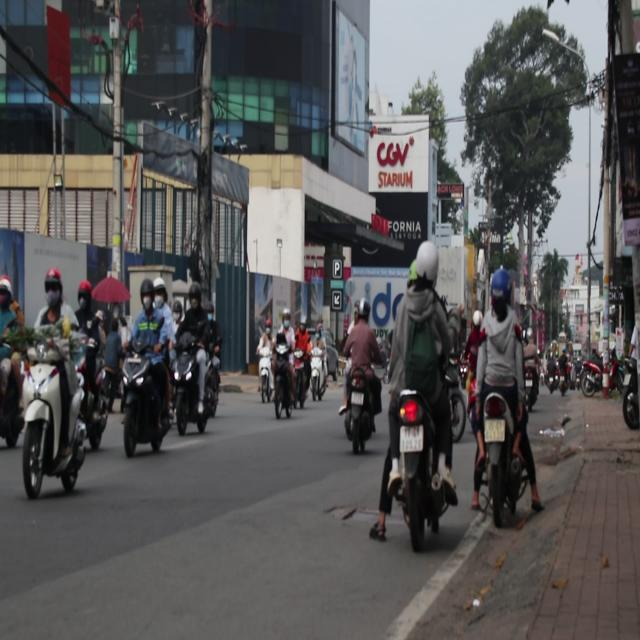motorbike: (370, 386, 453, 550), (15, 327, 93, 498), (472, 377, 530, 536), (121, 350, 173, 456), (171, 342, 221, 435), (340, 370, 380, 455), (273, 343, 295, 420), (256, 336, 275, 399), (523, 338, 540, 408), (578, 355, 604, 398)
